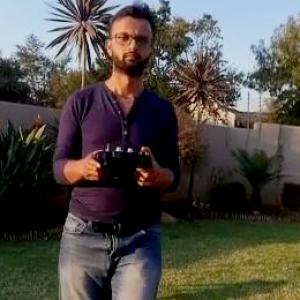follow: (47, 0, 181, 299)
